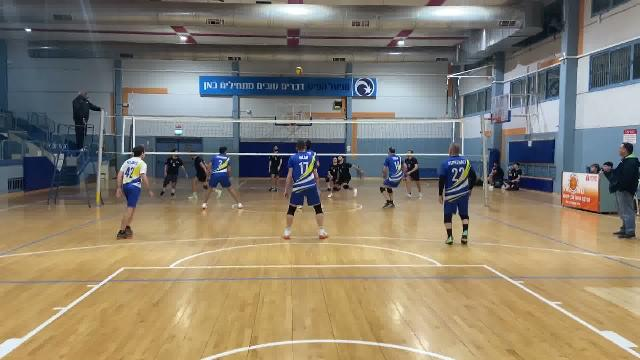ball: (293, 65, 304, 78)
